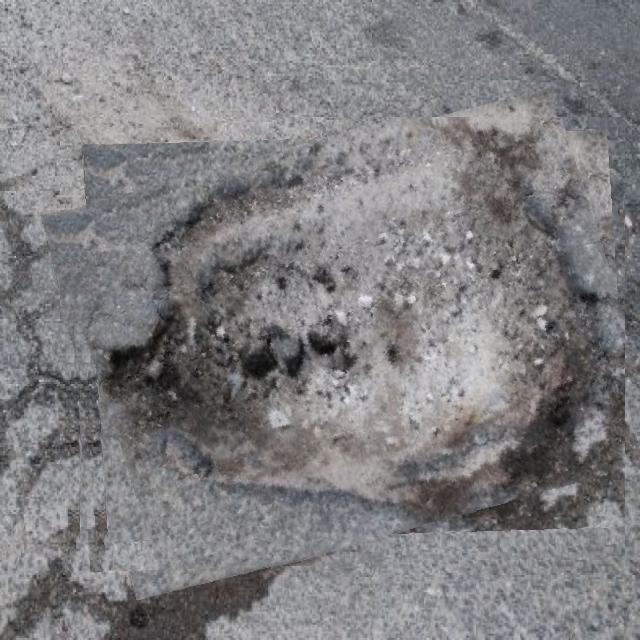Pothole: (60, 117, 625, 572)
